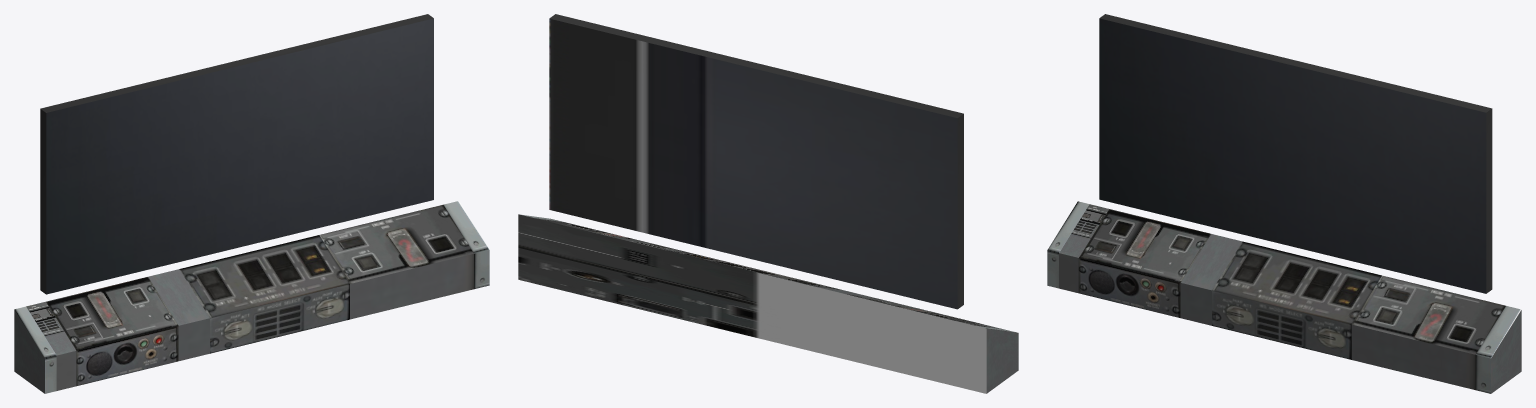
Rendered from MainRoomTvfbx.fbx.
The picture shows the model from 3 angles, left to right: view 1: azimuth 30°, elevation 25°; view 2: azimuth 150°, elevation 25°; view 3: azimuth 330°, elevation 25°; orthographic projection. The views are drawn at different scales.
Visible parts, largest first — view 1: Cube.052, Cube.053; view 2: Cube.052, Cube.053; view 3: Cube.052, Cube.053.
Part boxes in pixels (x1,y1,x2,y2): Cube.052: (40, 14, 433, 294); Cube.053: (14, 201, 489, 393); Cube.052: (549, 14, 963, 309); Cube.053: (518, 214, 1018, 393); Cube.052: (1099, 14, 1492, 293); Cube.053: (1047, 201, 1521, 393).
Size of the model in its own units: 29.14 by 16.02 by 3.56.
